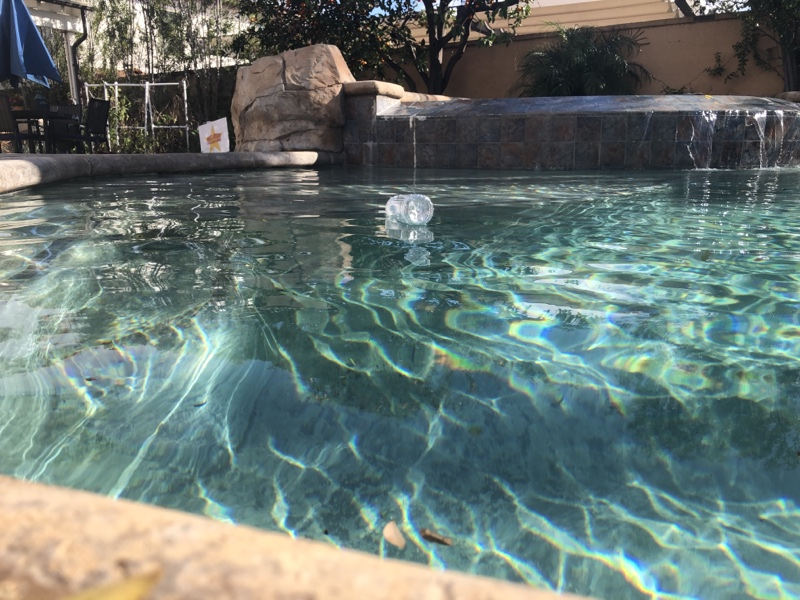Plastic Bottle: (379, 193, 438, 228)
